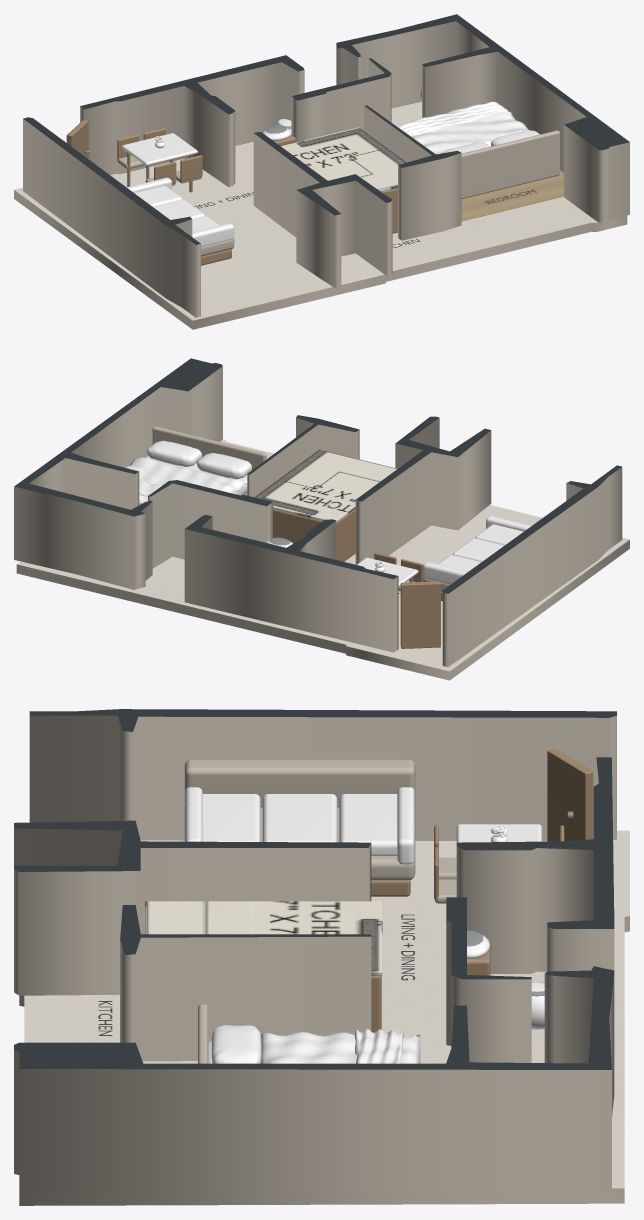
Rendered from opal-group-unit-05.glb.
3 views of the same model, one above another, from view 1: azimuth 30°, elevation 25°; view 2: azimuth 150°, elevation 25°; view 3: azimuth 270°, elevation 25° (orthographic). The views are drawn at different scales.
Parts seen in each view (by area): view 1: Partition walls, Apartment floor, Upholstered headboard, Stone worktop, Draped bed linen, Draped bed linen.001, Marble dining top, Padded armrest, Seat cushion.001, Seat cushion.002, Open oak door, Chair back.001; view 2: Partition walls, Apartment floor, Stone worktop, Open oak door, Draped bed linen, Kitchen cabinets, Upholstered headboard, Tailored pillow, Tailored pillow.001, Seat cushion.001, Padded armrest.001, Marble dining top (+1 smaller); view 3: Partition walls, Apartment floor, Stone worktop, Sofa back, Open oak door, Seat cushion.001, Draped bed linen, Seat cushion.002, Seat cushion, Tailored pillow, Draped bed linen.001, Upholstered sofa frame (+4 smaller).
Part boxes in pixels (x1,y1,x2,y2): Partition walls: (23,14,629,317); Apartment floor: (14,101,627,329); Upholstered headboard: (461,130,559,198); Stone worktop: (281,127,406,191); Draped bed linen: (395,102,530,154); Draped bed linen.001: (398,101,512,137); Marble dining top: (122,133,197,165); Padded armrest: (192,223,234,246); Seat cushion.001: (153,199,205,219); Seat cushion.002: (134,186,182,206); Open oak door: (66,120,88,158); Chair back.001: (180,155,202,181); Partition walls: (14,358,622,667); Apartment floor: (16,439,629,680); Stone worktop: (254,449,397,522); Open oak door: (400,581,440,648); Draped bed linen: (124,457,246,504); Kitchen cabinets: (273,509,355,561); Upholstered headboard: (152,426,266,469); Tailored pillow: (197,453,251,479); Tailored pillow.001: (147,440,202,466); Seat cushion.001: (452,538,504,561); Padded armrest.001: (423,562,467,584); Marble dining top: (357,557,418,586); Partition walls: (14,709,616,1193); Apartment floor: (19,830,629,1205); Stone worktop: (145,901,382,975); Sofa back: (184,759,415,807); Open oak door: (547,748,593,841); Seat cushion.001: (262,794,337,842); Draped bed linen: (261,1032,420,1063); Seat cushion.002: (339,794,397,855); Seat cushion: (202,794,260,841); Tailored pillow: (211,1025,261,1063); Draped bed linen.001: (354,1028,403,1063); Upholstered sofa frame: (184,804,415,880).
Size of the model in its own units: 8.06 by 1.44 by 5.78.
Materials: 12 (2 with a texture image).
